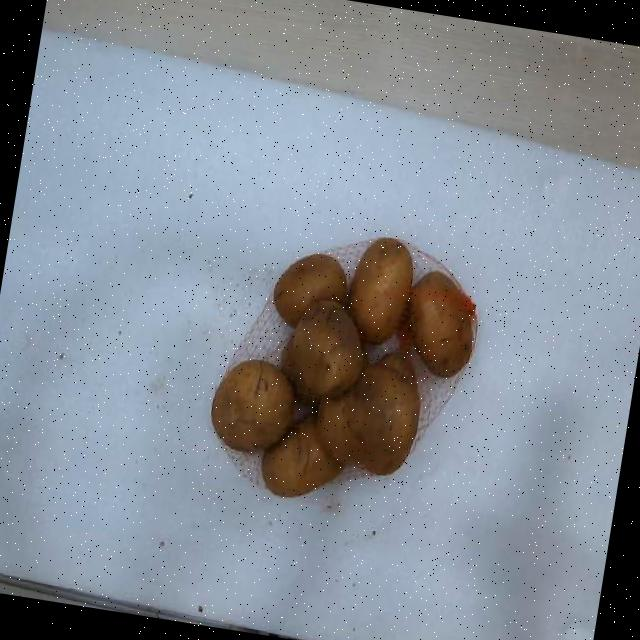potato: (318, 354, 421, 475), (283, 300, 364, 397), (211, 360, 295, 451), (410, 272, 476, 377), (349, 237, 413, 344), (262, 418, 343, 497), (273, 256, 347, 326)
